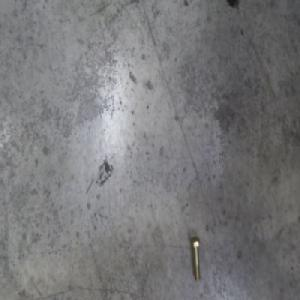Bolt: (190, 235, 202, 283)
